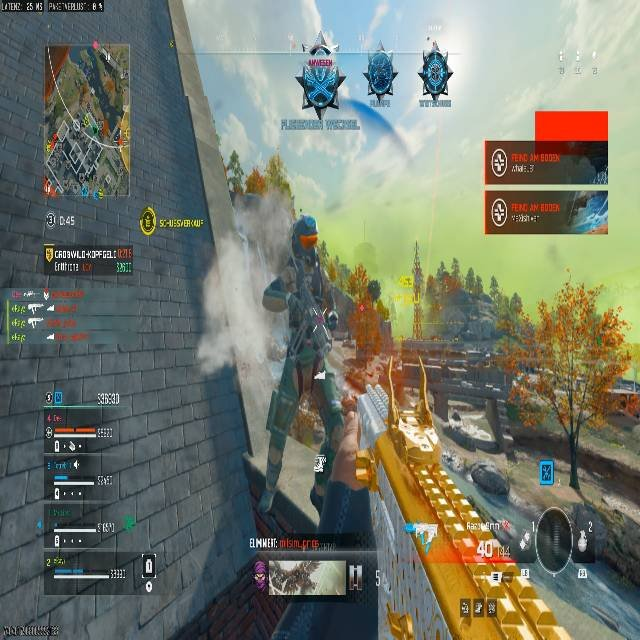head: (290, 214, 319, 251), (310, 45, 330, 56)
player: (257, 214, 352, 523), (294, 45, 346, 119), (417, 45, 451, 103), (363, 53, 397, 104)
